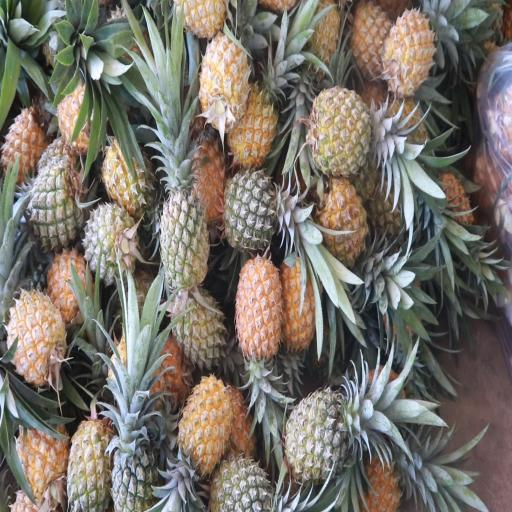------------------------------: (158, 164, 210, 291), (308, 87, 382, 175), (168, 292, 225, 375), (99, 134, 157, 212), (42, 252, 94, 333), (112, 427, 160, 512), (350, 1, 396, 80), (0, 108, 50, 180), (211, 453, 272, 512)
Pineapple - v8 v1: (175, 375, 235, 478), (10, 288, 67, 390), (236, 256, 285, 366), (279, 252, 326, 364), (385, 8, 440, 95), (11, 421, 69, 503), (199, 32, 248, 126), (316, 178, 369, 262), (67, 422, 114, 512), (230, 83, 279, 167), (184, 127, 226, 225)
